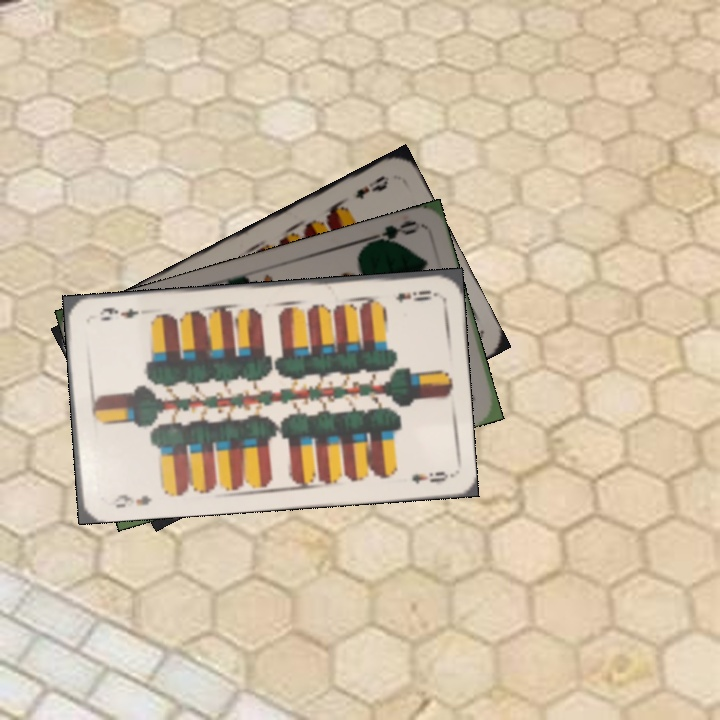E9: (351, 171, 392, 202), (102, 490, 153, 511), (391, 286, 438, 306)
GO: (362, 216, 421, 247)
